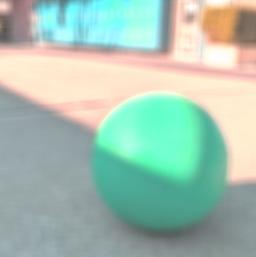algae: (90, 90, 227, 232)
